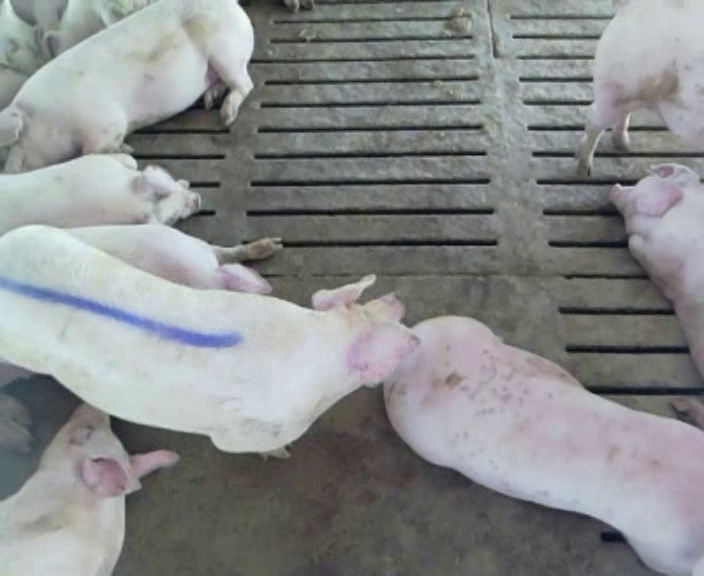pig: (384, 316, 703, 573), (0, 2, 253, 171), (0, 404, 178, 574), (578, 2, 703, 175), (0, 155, 199, 234), (46, 1, 148, 56)
